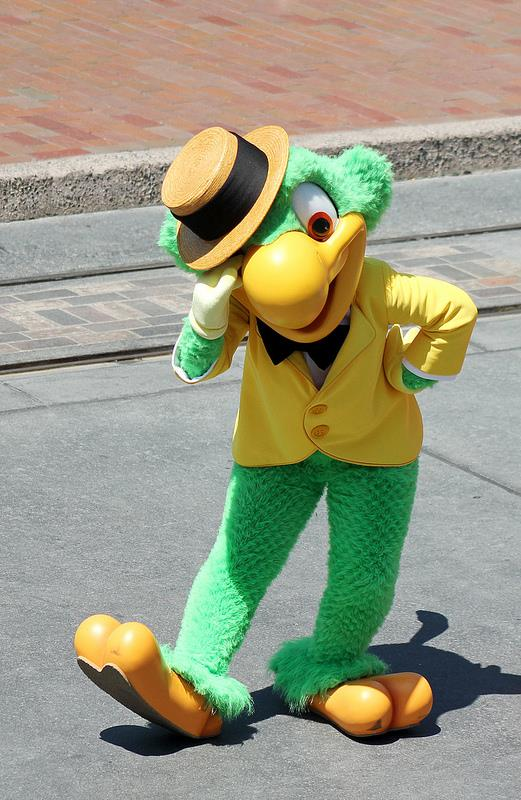Jose_Carioca: (50, 120, 469, 754)
